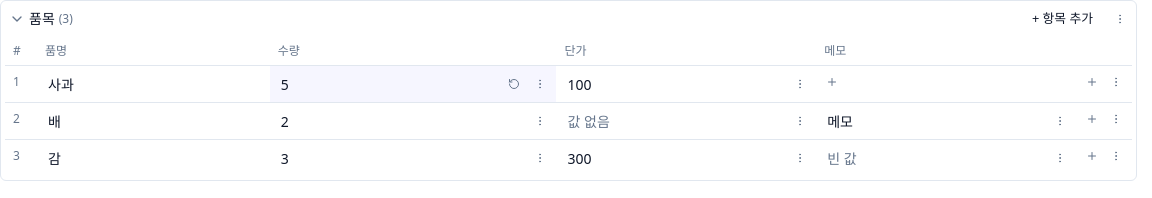
Test: 배열 표 바뀐 칸 › 바뀐 칸은 data-changed·옅은 바탕·원본 값 title·되돌리기 버튼
Click the button with test id "job-review-tree-table-button-revert": (514, 84) [502,72,526,96]
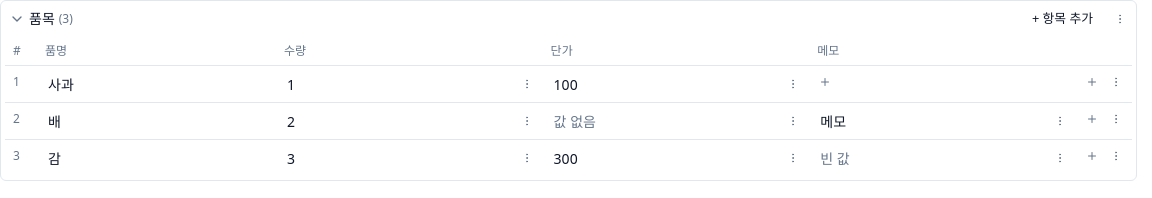
Now the button with test id "job-review-tree-table-button-revert" is gone
